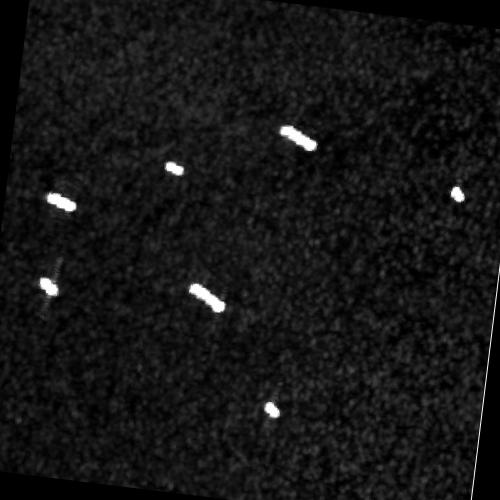ship: (187, 280, 227, 316), (278, 123, 318, 152), (46, 190, 77, 212), (38, 276, 59, 297), (162, 159, 185, 177), (262, 401, 280, 420), (449, 185, 465, 203)
